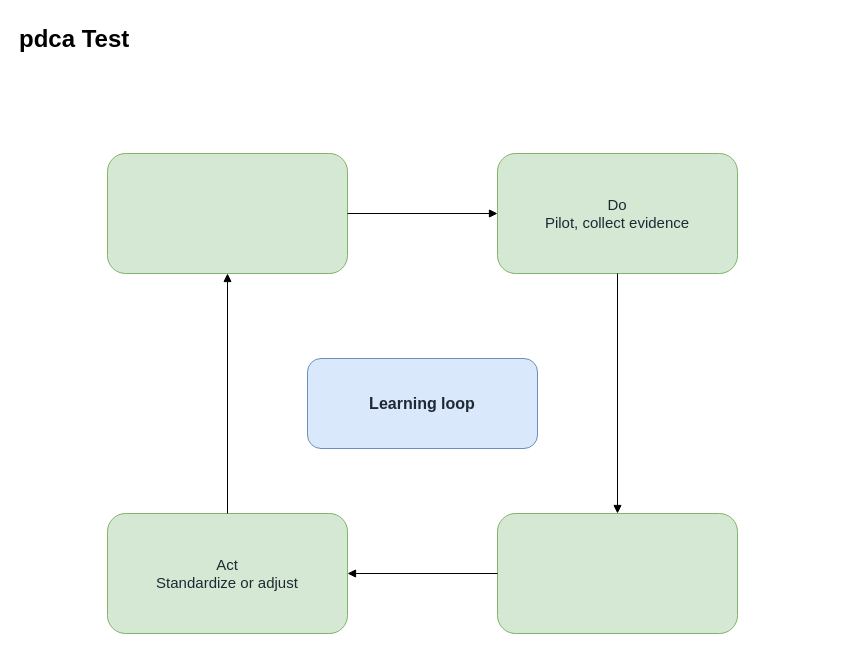
Some shapes in this 854 by 651 pixel diagram are drawn without their labels. Each missing label, with the centre of its shape:
"Check Compare result to target" goes at (617,573).
"Plan Target, hypothesis, plan" goes at (227,213).
